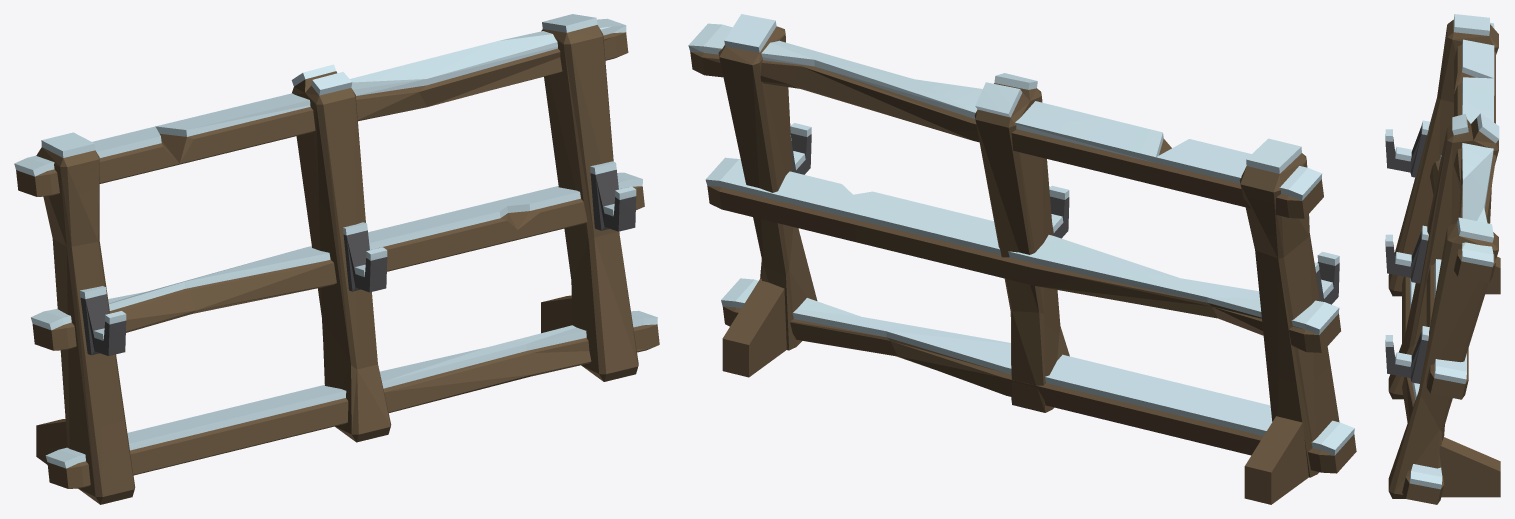
Rendered from Estantería.glb.
3 views of the same model, side by side, from view 1: azimuth 30°, elevation 25°; view 2: azimuth 150°, elevation 25°; view 3: azimuth 270°, elevation 25° (orthographic). The views are drawn at different scales.
Parts seen in each view (by area): view 1: SM_Prop_Rack_01_Snow; view 2: SM_Prop_Rack_01_Snow; view 3: SM_Prop_Rack_01_Snow.
Part boxes in pixels (<box>): SM_Prop_Rack_01_Snow: <box>14,14,659,504</box>; SM_Prop_Rack_01_Snow: <box>688,14,1356,504</box>; SM_Prop_Rack_01_Snow: <box>1385,14,1500,504</box>.
Size of the model in its own units: 1.57 by 0.8346 by 0.3184.
Materials: 1 (1 with a texture image).
